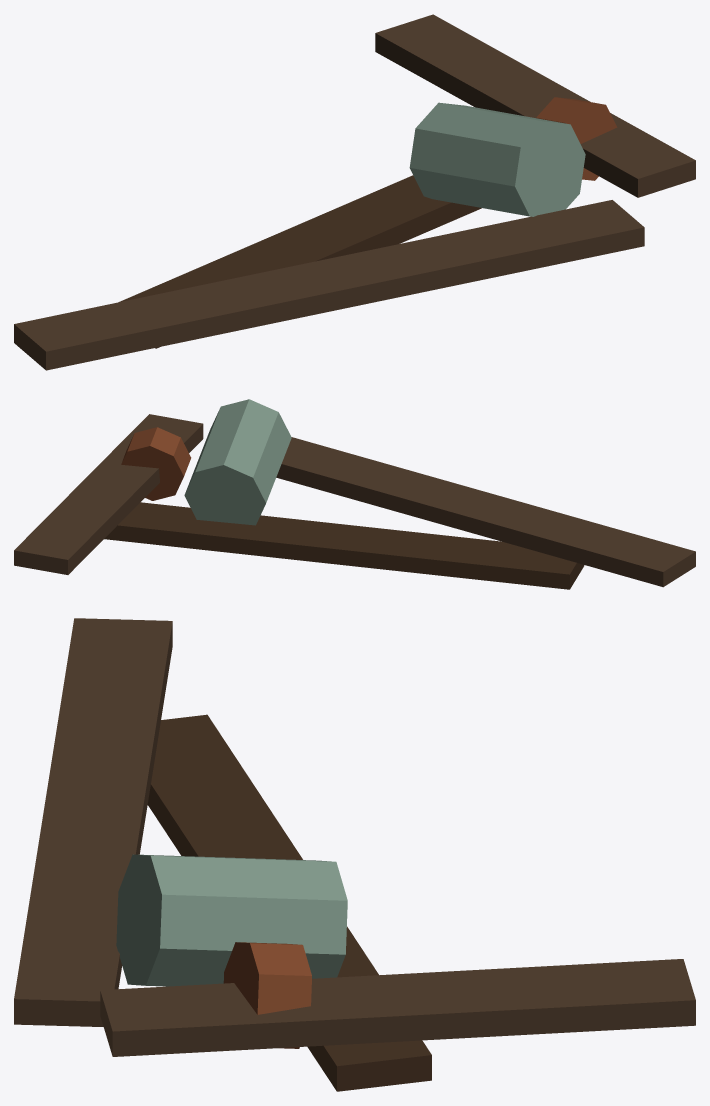
The model's file is TownJunkB.glb.
The picture shows the model from 3 angles, top to bottom: view 1: azimuth 30°, elevation 25°; view 2: azimuth 150°, elevation 25°; view 3: azimuth 270°, elevation 25°; orthographic projection. The views are drawn at different scales.
Visible parts, largest first — view 1: TownJunkB.001; view 2: TownJunkB.001; view 3: TownJunkB.001.
Part boxes in pixels (left/top/right/bottom): TownJunkB.001: left=14, top=14, right=695, bottom=370; TownJunkB.001: left=14, top=399, right=695, bottom=589; TownJunkB.001: left=14, top=618, right=695, bottom=1091.
Size of the model in its own units: 1.47 by 0.2523 by 0.9676.
